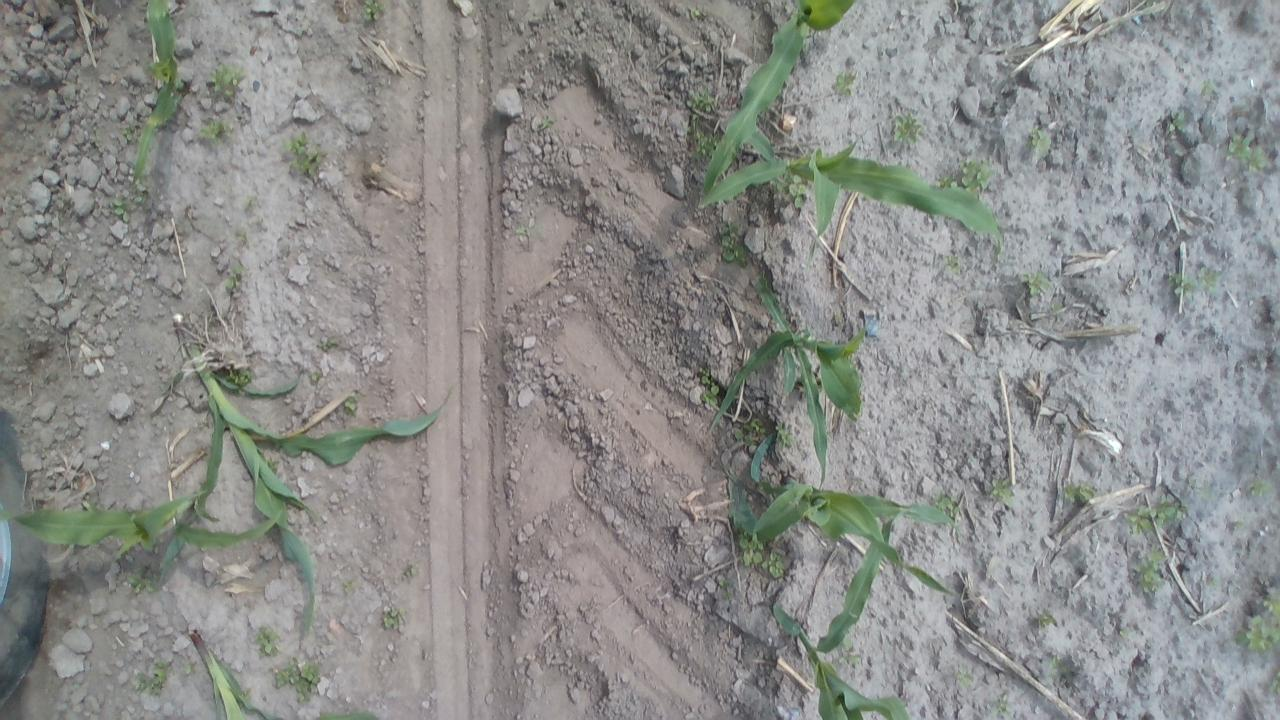Maize: (142, 323, 464, 650), (693, 142, 1007, 278), (703, 278, 873, 488), (702, 0, 866, 203), (768, 505, 913, 720), (734, 478, 966, 600), (0, 492, 290, 576), (182, 626, 395, 720), (121, 0, 193, 189)
Weeds: (1233, 582, 1280, 654), (1124, 496, 1193, 537), (938, 158, 1002, 198), (272, 656, 324, 705), (1223, 130, 1270, 178), (1132, 545, 1167, 600), (284, 129, 322, 178), (130, 656, 174, 698), (206, 60, 248, 100), (1165, 266, 1220, 296), (126, 560, 166, 598), (886, 109, 922, 150), (110, 191, 154, 223), (772, 174, 811, 210), (688, 121, 724, 159), (691, 366, 722, 410), (719, 221, 748, 268), (681, 86, 720, 118), (196, 114, 234, 146), (736, 532, 766, 570), (1022, 126, 1055, 160), (1062, 476, 1097, 508), (380, 604, 416, 635), (932, 489, 968, 520), (251, 624, 284, 657), (829, 66, 862, 98), (734, 417, 766, 446), (514, 221, 552, 245), (839, 635, 864, 670), (1021, 271, 1050, 300), (989, 474, 1018, 503), (222, 260, 244, 296), (1046, 656, 1074, 684), (312, 330, 344, 354), (774, 417, 797, 450), (935, 252, 964, 278), (763, 549, 786, 580), (359, 0, 386, 26), (954, 665, 980, 692), (1246, 473, 1274, 498), (715, 575, 740, 602), (1263, 668, 1280, 706), (1166, 108, 1186, 140), (1036, 606, 1060, 632), (537, 109, 560, 136), (343, 384, 362, 416), (990, 692, 1011, 720), (231, 226, 256, 248), (686, 4, 711, 26), (338, 572, 364, 593), (178, 658, 200, 682), (1188, 479, 1212, 500), (399, 558, 420, 581), (229, 364, 250, 387), (1198, 80, 1220, 101), (1232, 514, 1255, 530), (1118, 623, 1137, 642), (1204, 572, 1219, 594), (308, 368, 324, 387), (1048, 301, 1064, 320), (123, 126, 136, 144), (242, 192, 254, 209)
